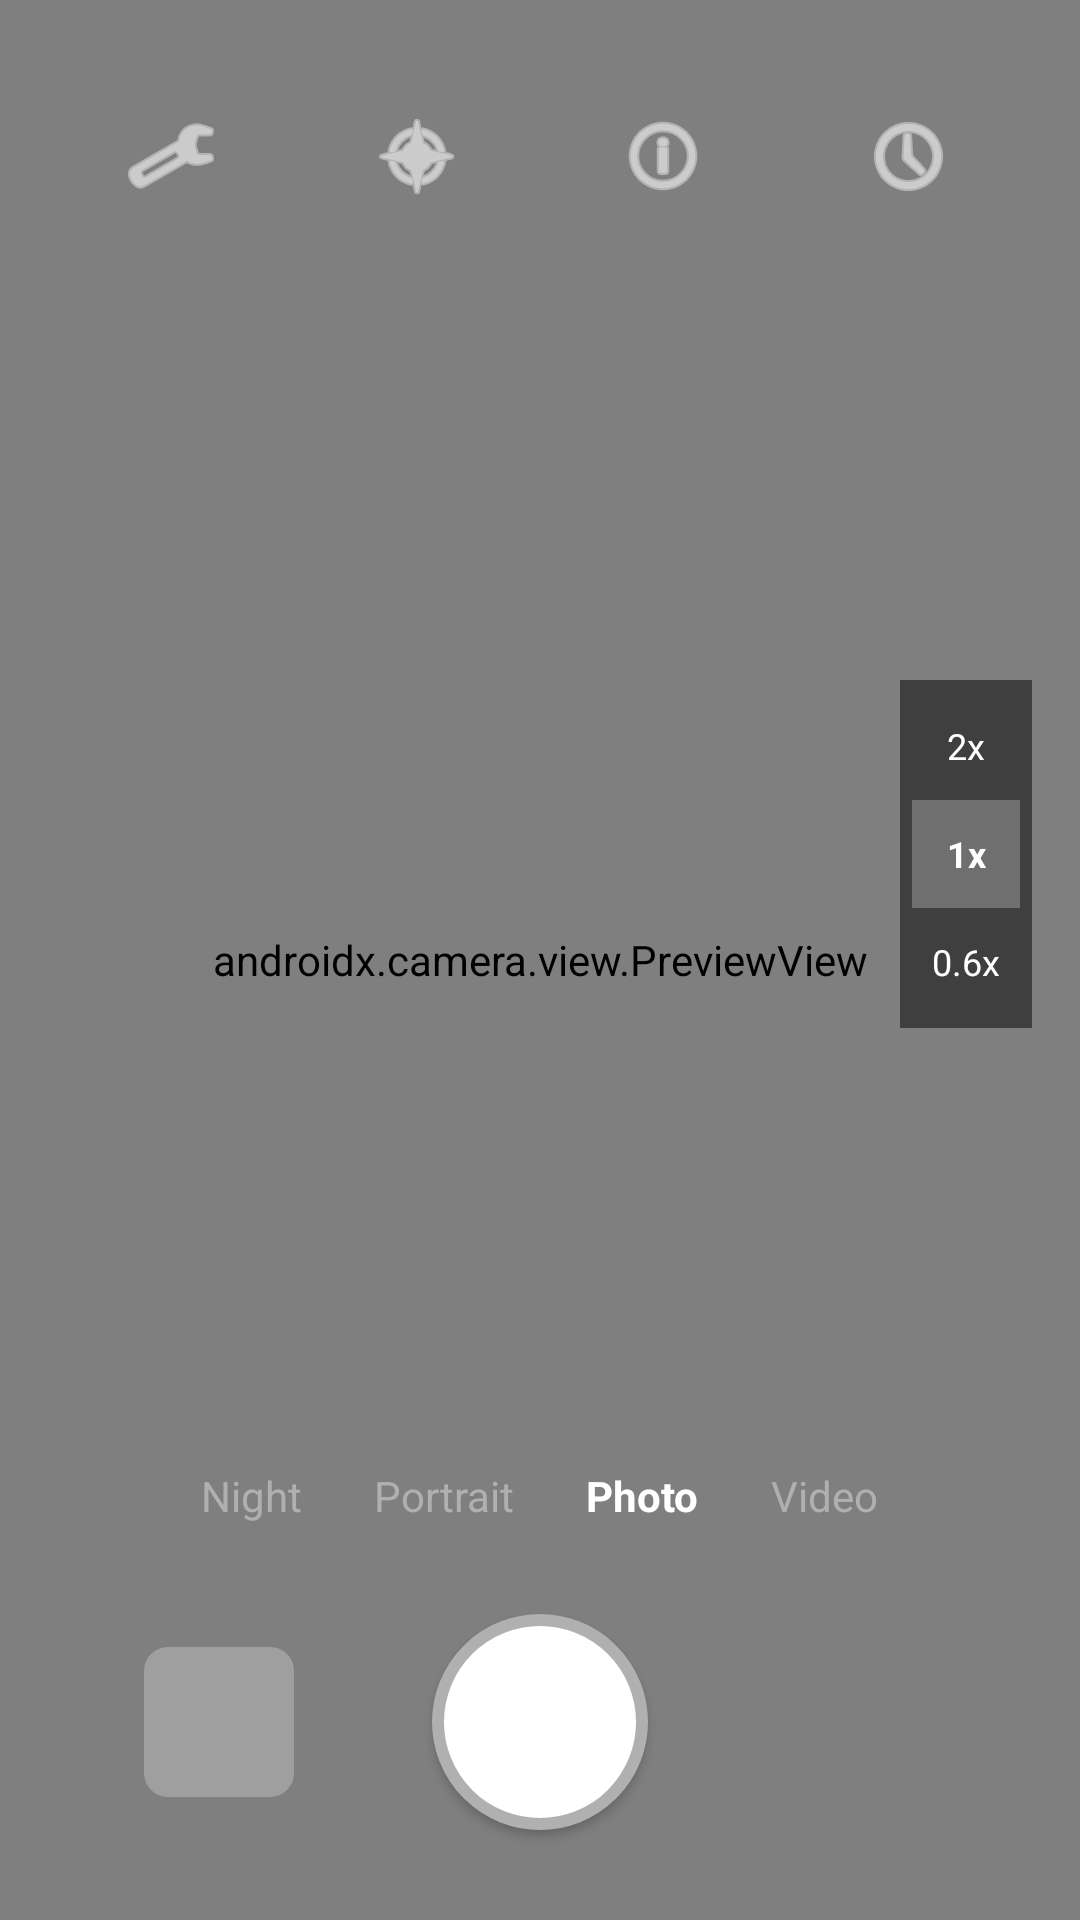

Where to tap for icons on this 1080×1920 app screen, as (x,y):
compass: (416,156)
info details: (663,156)
manage: (171,156)
recent history: (908,156)
